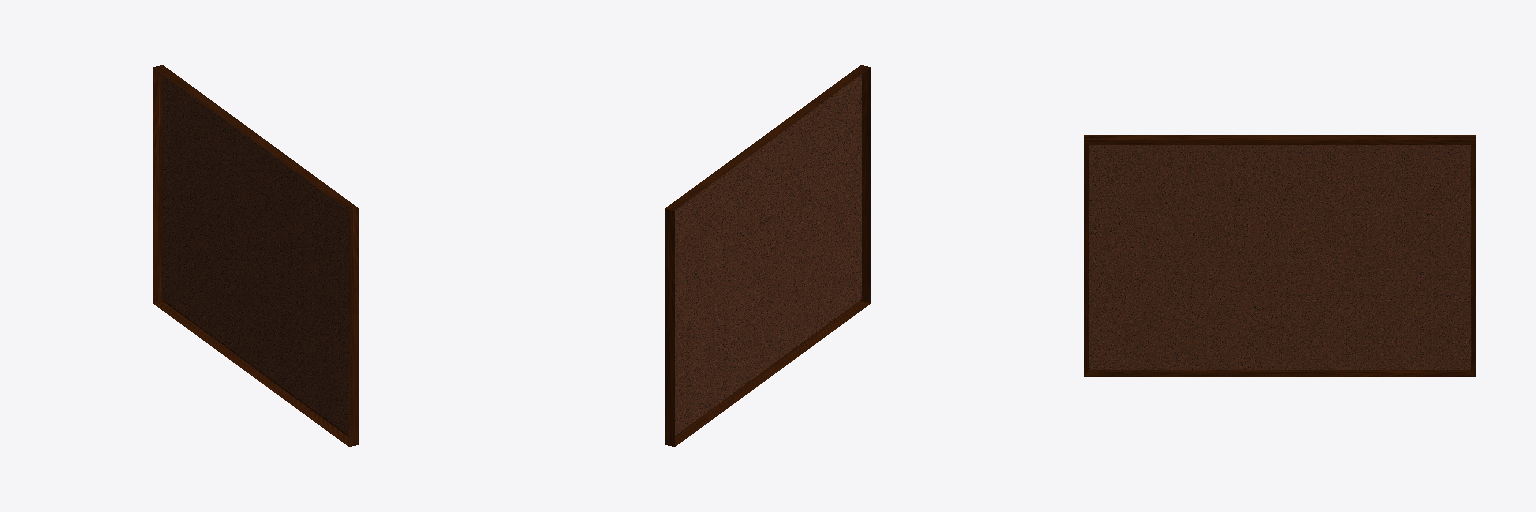
The picture shows the model from 3 angles: view 1: azimuth 30°, elevation 25°; view 2: azimuth 150°, elevation 25°; view 3: azimuth 270°, elevation 25°; orthographic projection.
Parts seen in each view (by area): view 1: Cube; view 2: Cube; view 3: Cube.
Part boxes in pixels (x1,y1,x2,y2): Cube: (153,65,358,446); Cube: (665,65,870,446); Cube: (1084,135,1475,376).
Bounding box in the file's own units: 0.1021 × 2.31 × 3.48.
1 materials, 1 textured.